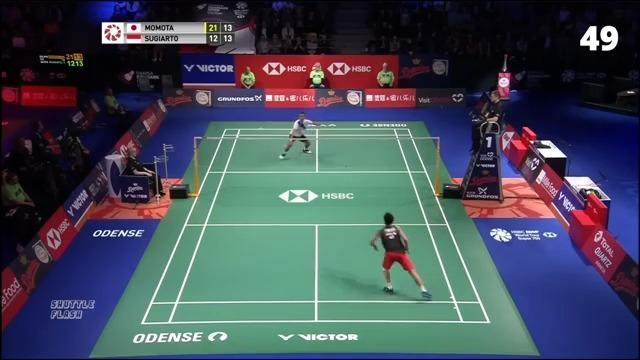Shuttlecock: (258, 125, 262, 131)
